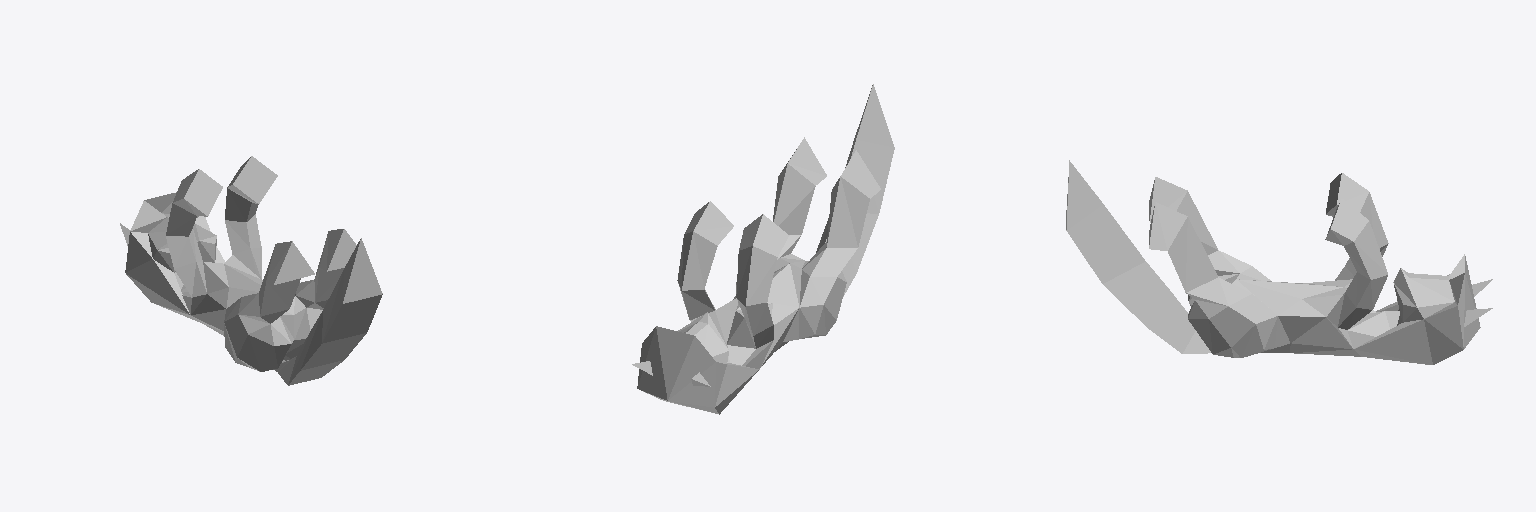
File: PONY_000039.obj
3 renders of one model, left to right at view 1: azimuth 30°, elevation 25°; view 2: azimuth 150°, elevation 25°; view 3: azimuth 270°, elevation 25°, orthographic.
Parts seen in each view (by area): view 1: pony; view 2: pony; view 3: pony.
Part boxes in pixels (x1,y1,x2,y2): pony: (120, 156, 382, 385); pony: (632, 84, 894, 414); pony: (1066, 160, 1492, 364).
Bounding box in the file's own units: 3.33 × 6.34 × 12.83.